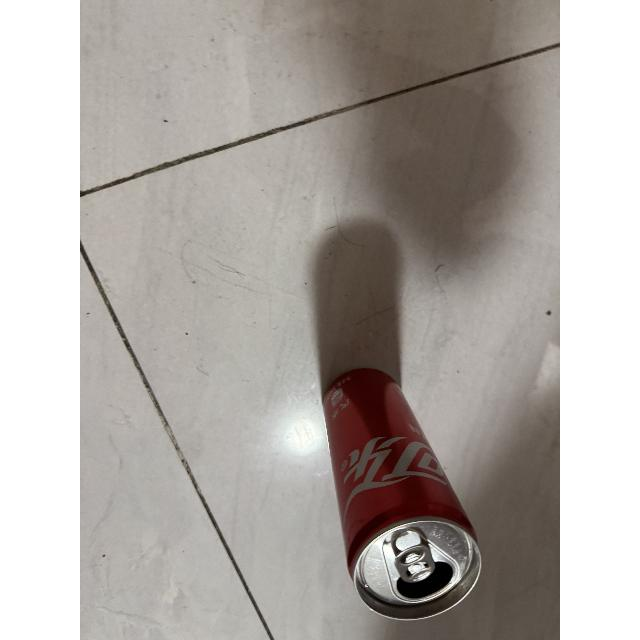coca-cola: (316, 364, 489, 628)
